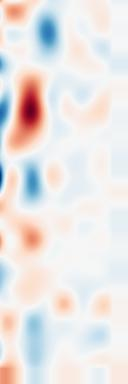filament: (13, 71, 53, 159)
